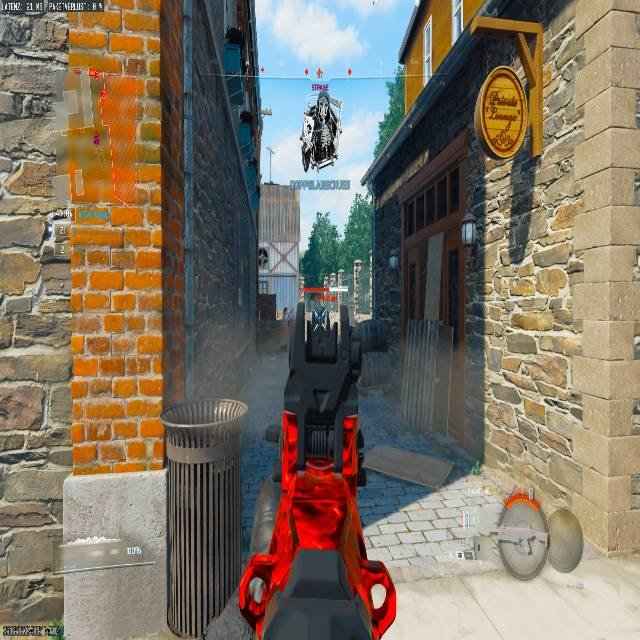player: (301, 82, 341, 170), (255, 243, 271, 284), (311, 305, 327, 331), (257, 246, 268, 267)
